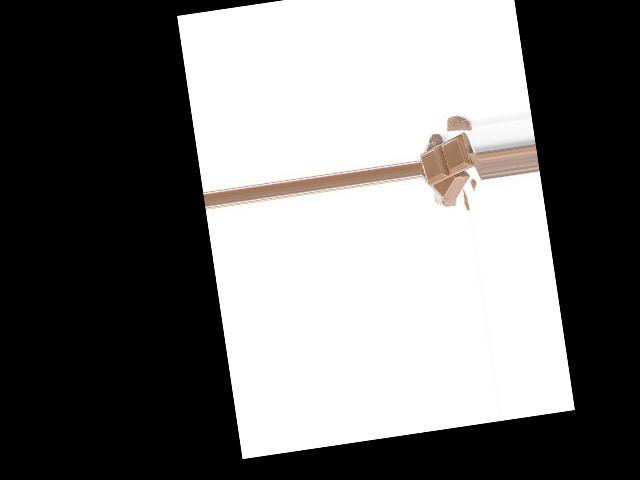chocolate: (419, 133, 475, 186)
